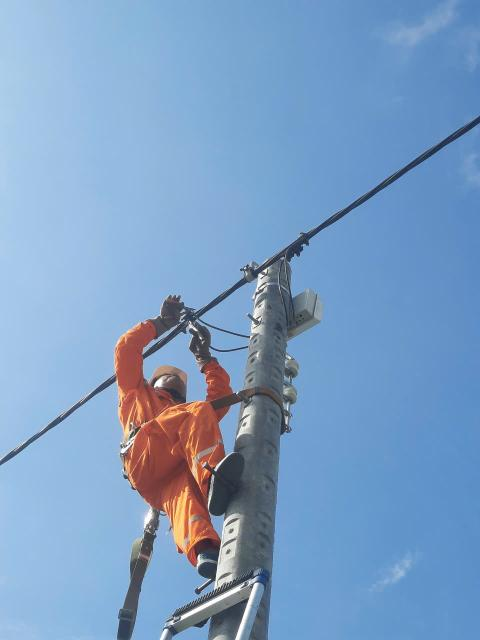gloves: (183, 321, 223, 368), (144, 296, 187, 336)
harness: (111, 416, 185, 451)
helmet: (141, 347, 196, 406)
shoes: (202, 455, 245, 509), (189, 544, 250, 581)
